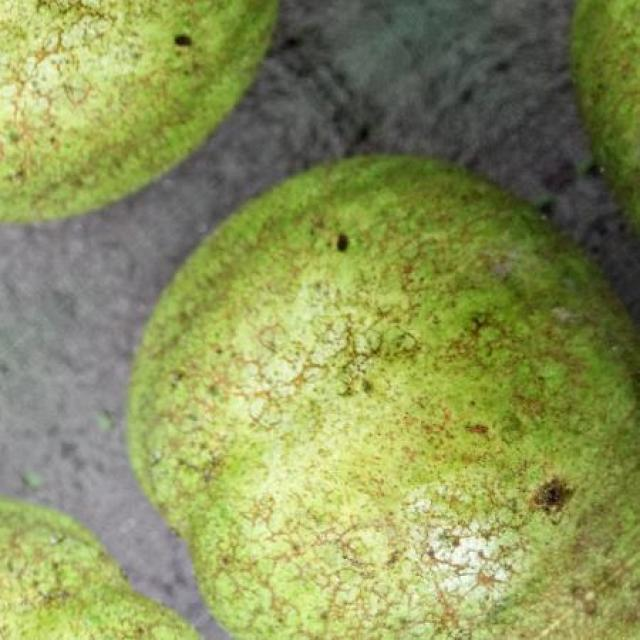Scab: (128, 158, 640, 640), (0, 0, 278, 222)
